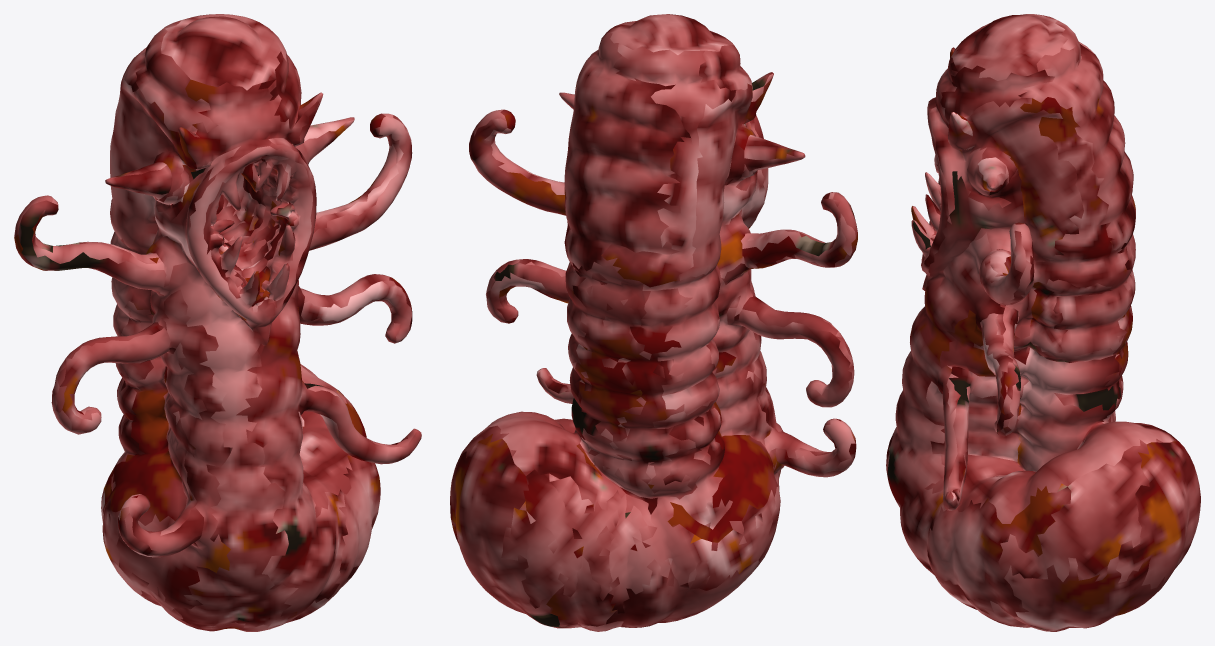
File: SARGF1.obj
The picture shows the model from 3 angles, left to right: view 1: azimuth 30°, elevation 25°; view 2: azimuth 150°, elevation 25°; view 3: azimuth 270°, elevation 25°; orthographic projection. The views are drawn at different scales.
Bounding box in the file's own units: 0.6824 × 1 × 0.5022.
1 material, 1 textured.
